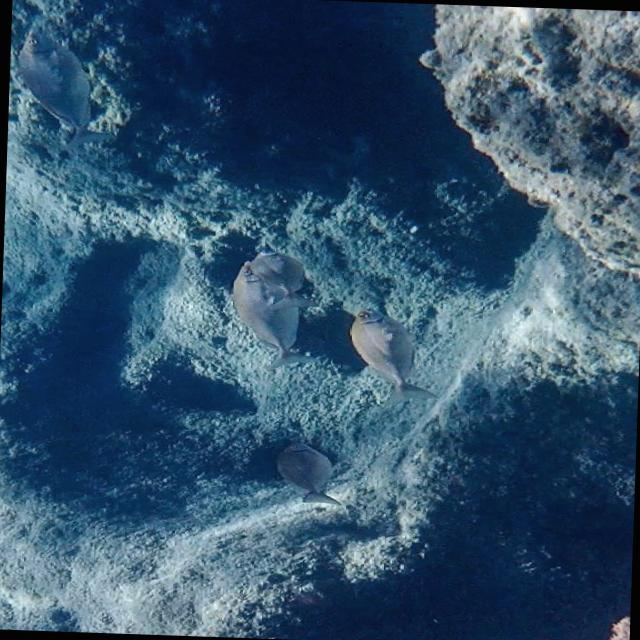Sokar Baligi: (334, 302, 454, 411), (260, 434, 360, 515)
